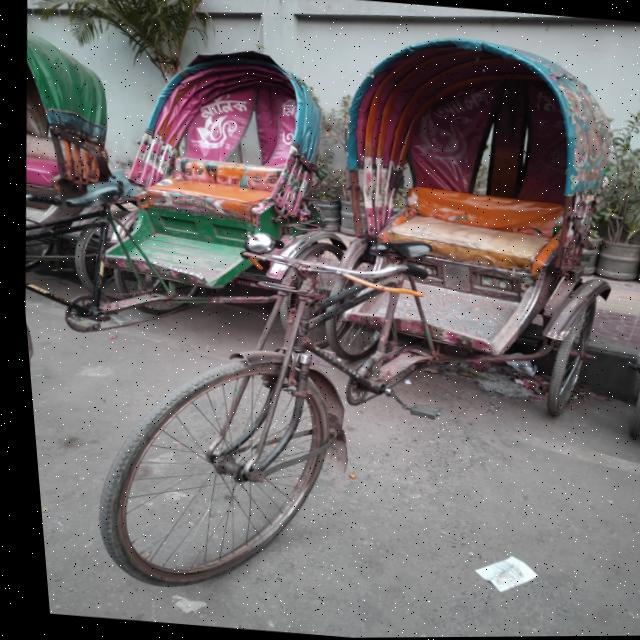rikshaw: (110, 0, 640, 639), (6, 13, 397, 391)
